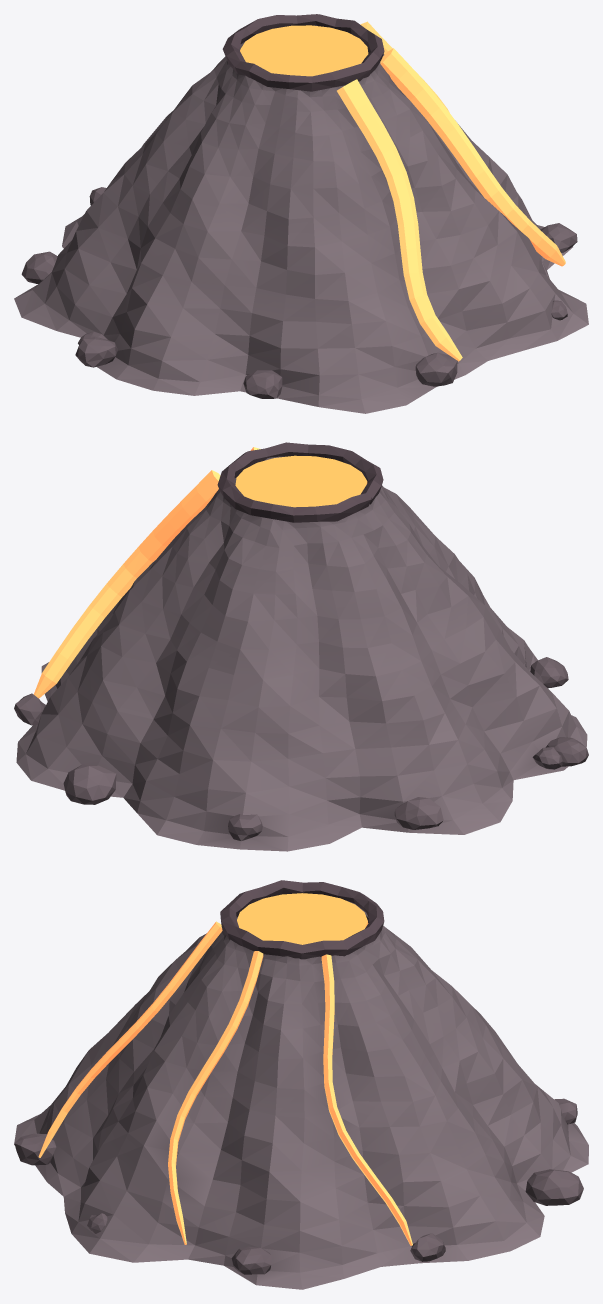
Rendered from props.glb.
3 views of the same model, one above another, from view 1: azimuth 30°, elevation 25°; view 2: azimuth 150°, elevation 25°; view 3: azimuth 270°, elevation 25° (orthographic). The views are drawn at different scales.
Visible parts, largest first — view 1: volcano__c_8a7a82, volcano__glow_ff8a4d, volcano__c_7a6a72, volcano__glow_ff7a3d, volcano__c_5a4a52; view 2: volcano__c_8a7a82, volcano__c_7a6a72, volcano__glow_ff8a4d, volcano__glow_ff7a3d, volcano__c_5a4a52; view 3: volcano__c_8a7a82, volcano__glow_ff8a4d, volcano__glow_ff7a3d, volcano__c_7a6a72, volcano__c_5a4a52.
Part boxes in pixels (x1=…): volcano__c_8a7a82: x1=14, y1=25, x2=588, y2=413; volcano__glow_ff8a4d: x1=337, y1=21, x2=565, y2=361; volcano__c_7a6a72: x1=21, y1=187, x2=577, y2=398; volcano__glow_ff7a3d: x1=240, y1=25, x2=368, y2=76; volcano__c_5a4a52: x1=222, y1=14, x2=384, y2=91; volcano__c_8a7a82: x1=16, y1=456, x2=587, y2=851; volcano__c_7a6a72: x1=14, y1=657, x2=588, y2=840; volcano__glow_ff8a4d: x1=33, y1=447, x2=260, y2=698; volcano__glow_ff7a3d: x1=235, y1=455, x2=367, y2=507; volcano__c_5a4a52: x1=217, y1=442, x2=383, y2=522; volcano__c_8a7a82: x1=14, y1=901, x2=588, y2=1289; volcano__glow_ff8a4d: x1=38, y1=921, x2=412, y2=1245; volcano__glow_ff7a3d: x1=237, y1=893, x2=368, y2=944; volcano__c_7a6a72: x1=14, y1=1098, x2=583, y2=1274; volcano__c_5a4a52: x1=220, y1=880, x2=384, y2=959.
Bounding box in the file's own units: 23.46 × 14.28 × 22.79.
